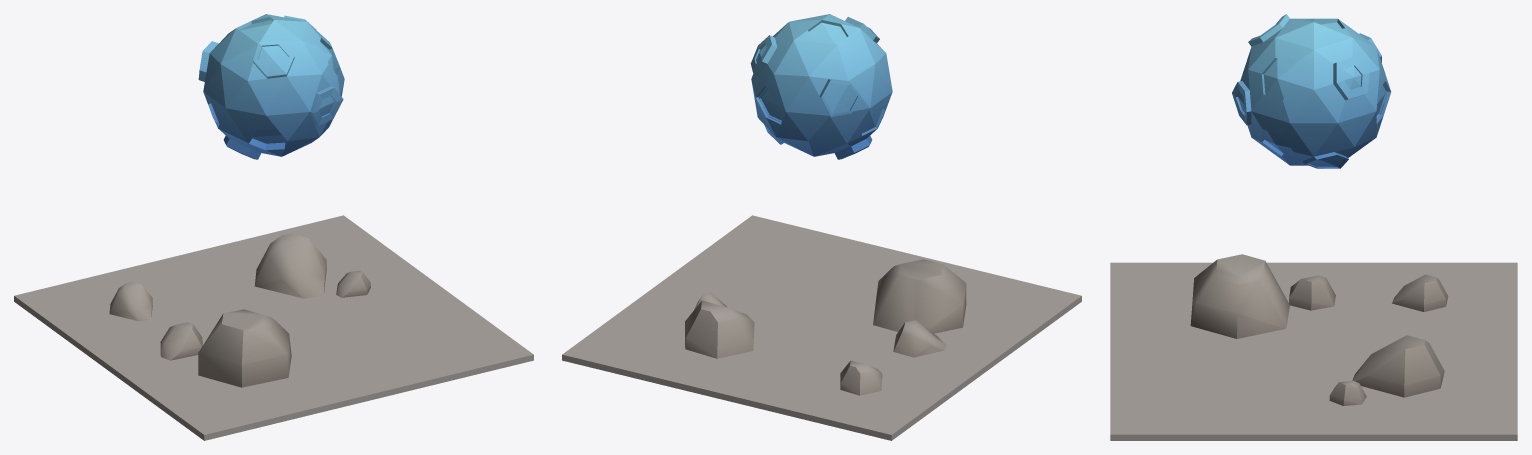
File: moon.glb
The picture shows the model from 3 angles, left to right: view 1: azimuth 30°, elevation 25°; view 2: azimuth 150°, elevation 25°; view 3: azimuth 270°, elevation 25°; orthographic projection. The views are drawn at different scales.
Visible parts, largest first — view 1: Moon; view 2: Moon; view 3: Moon.
Boxes of the visible parts, x1,y1,x2,y2 form: Moon: (14, 14, 533, 440); Moon: (562, 14, 1081, 440); Moon: (1110, 14, 1517, 440).
Bounding box in the file's own units: 0.58 × 0.5234 × 0.58.
Materials: 1 (1 with a texture image).
